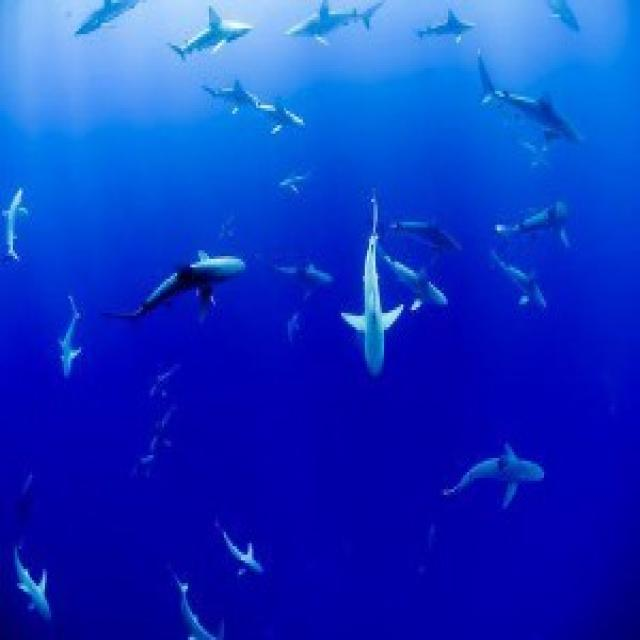Shark: (107, 240, 254, 325), (346, 178, 406, 384), (458, 45, 577, 142), (435, 435, 564, 509), (486, 238, 556, 334), (156, 563, 232, 640), (5, 541, 63, 632), (493, 200, 589, 254), (166, 6, 255, 64), (284, 2, 389, 49), (220, 508, 278, 589), (389, 248, 458, 304), (53, 290, 91, 383), (138, 409, 187, 481), (65, 1, 155, 40), (136, 354, 198, 404), (412, 4, 480, 46), (3, 174, 31, 271), (195, 74, 258, 112), (278, 255, 342, 292), (7, 477, 50, 525), (537, 0, 581, 41), (263, 106, 316, 135), (276, 174, 320, 203), (285, 300, 308, 344)
